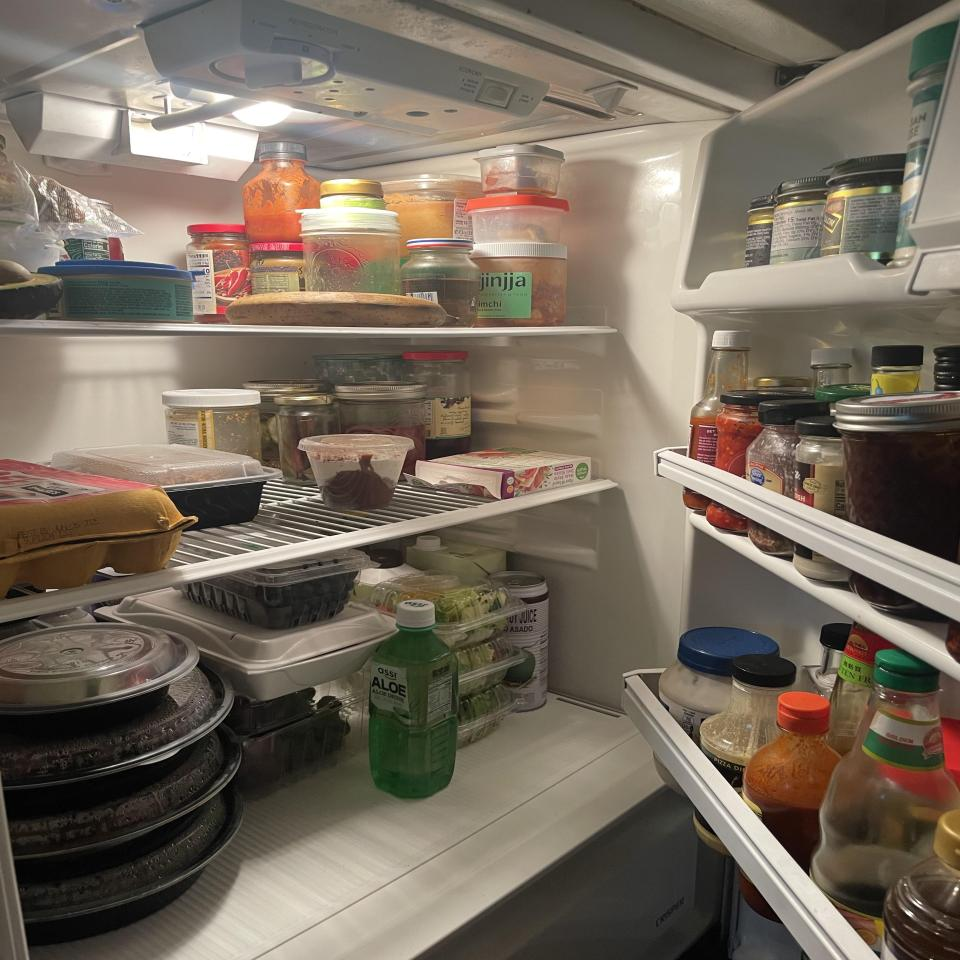Aguacate: (0, 255, 63, 320)
Huevos: (0, 454, 183, 596)
Plátano: (215, 289, 466, 329)
